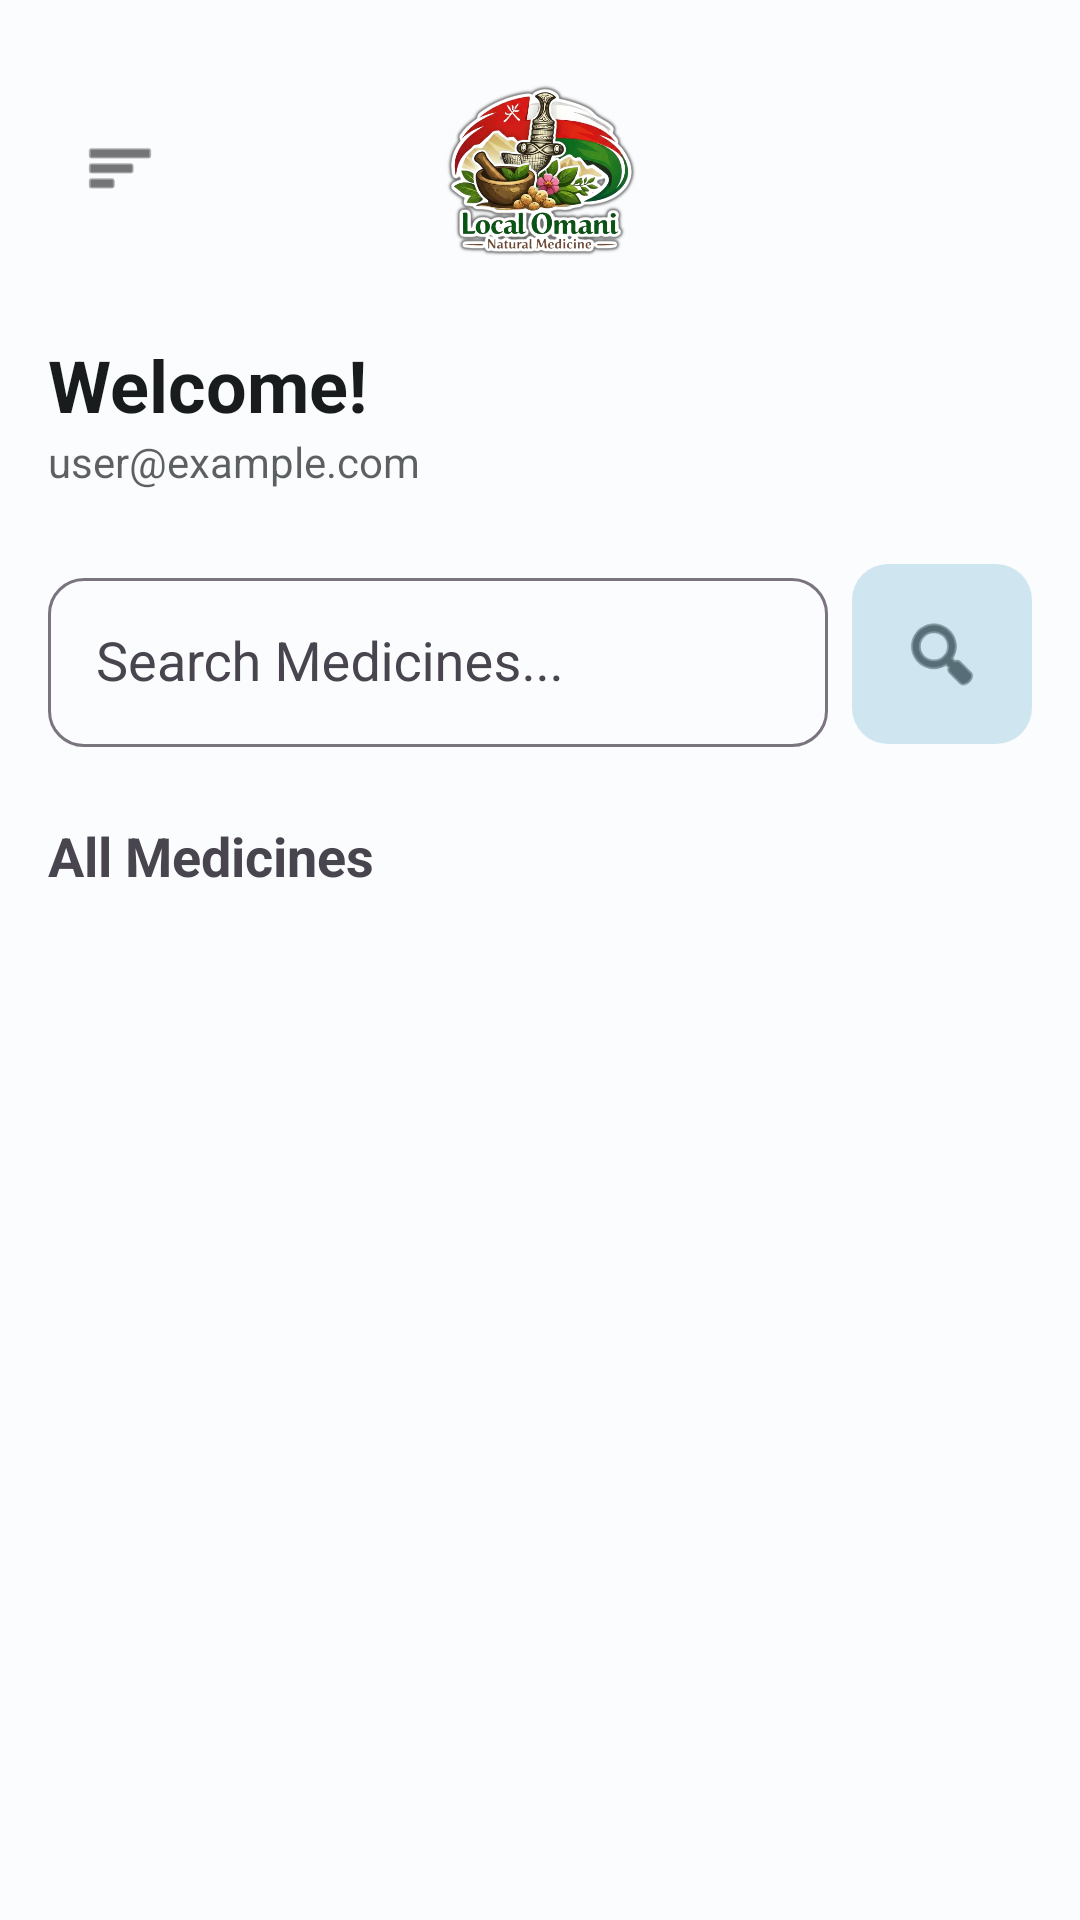

Where to tap for icons on this 1080*1920 app screen, as [x,y]:
sort by size: [120,168]
